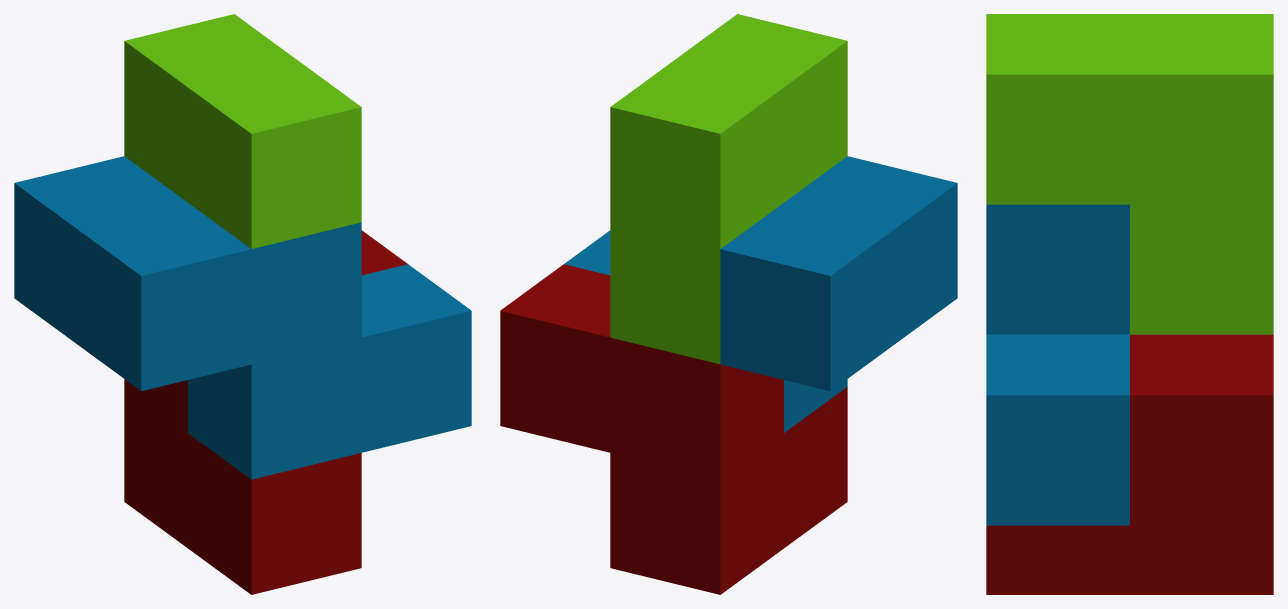
3 renders of one model, left to right at view 1: azimuth 30°, elevation 25°; view 2: azimuth 150°, elevation 25°; view 3: azimuth 270°, elevation 25°, orthographic. The views are drawn at different scales.
Visible parts, largest first — view 1: mergedBlocks(Clone); view 2: mergedBlocks(Clone); view 3: mergedBlocks(Clone).
Part boxes in pixels (x1,y1,x2,y2): mergedBlocks(Clone): [14, 14, 471, 594]; mergedBlocks(Clone): [500, 14, 957, 594]; mergedBlocks(Clone): [986, 14, 1273, 594].
Size of the model in its own units: 3 by 4 by 2.
3 materials, 3 textured.
